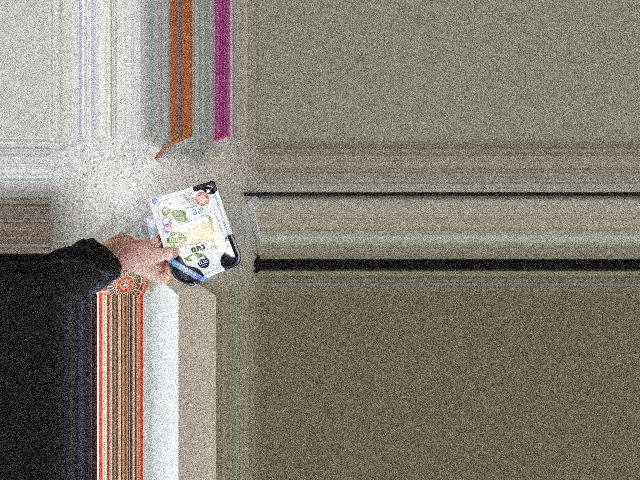cheese: (164, 188, 232, 278)
